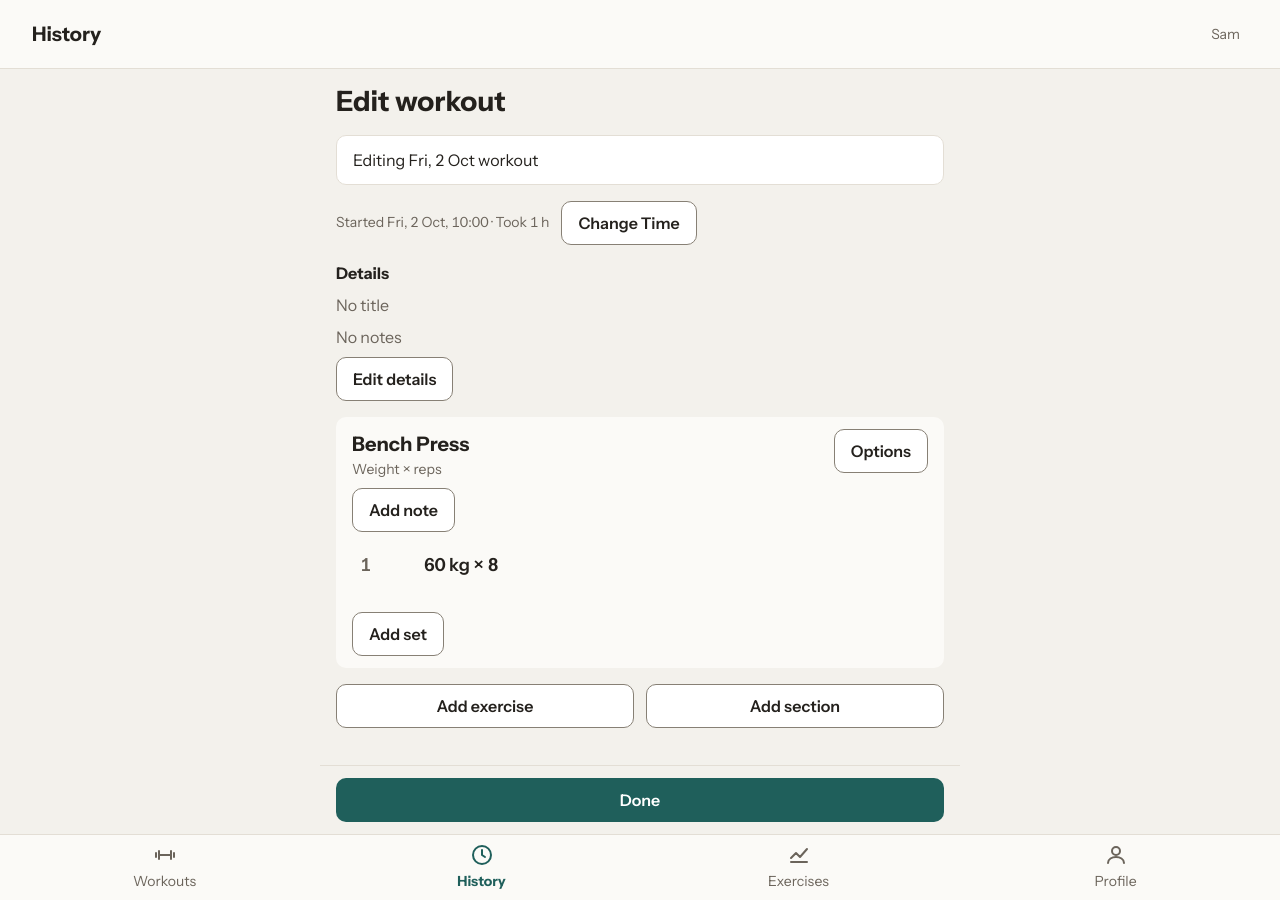
Test: 18.0 AC53 / AC54 — the Details sheet › 500: the sheet stays open with the typed text and the copy; never the server's message
Expected: the heading "Edit workout" is shown, [336,84,506,118]
Click the button "Edit details": (395, 379) [336,357,453,401]
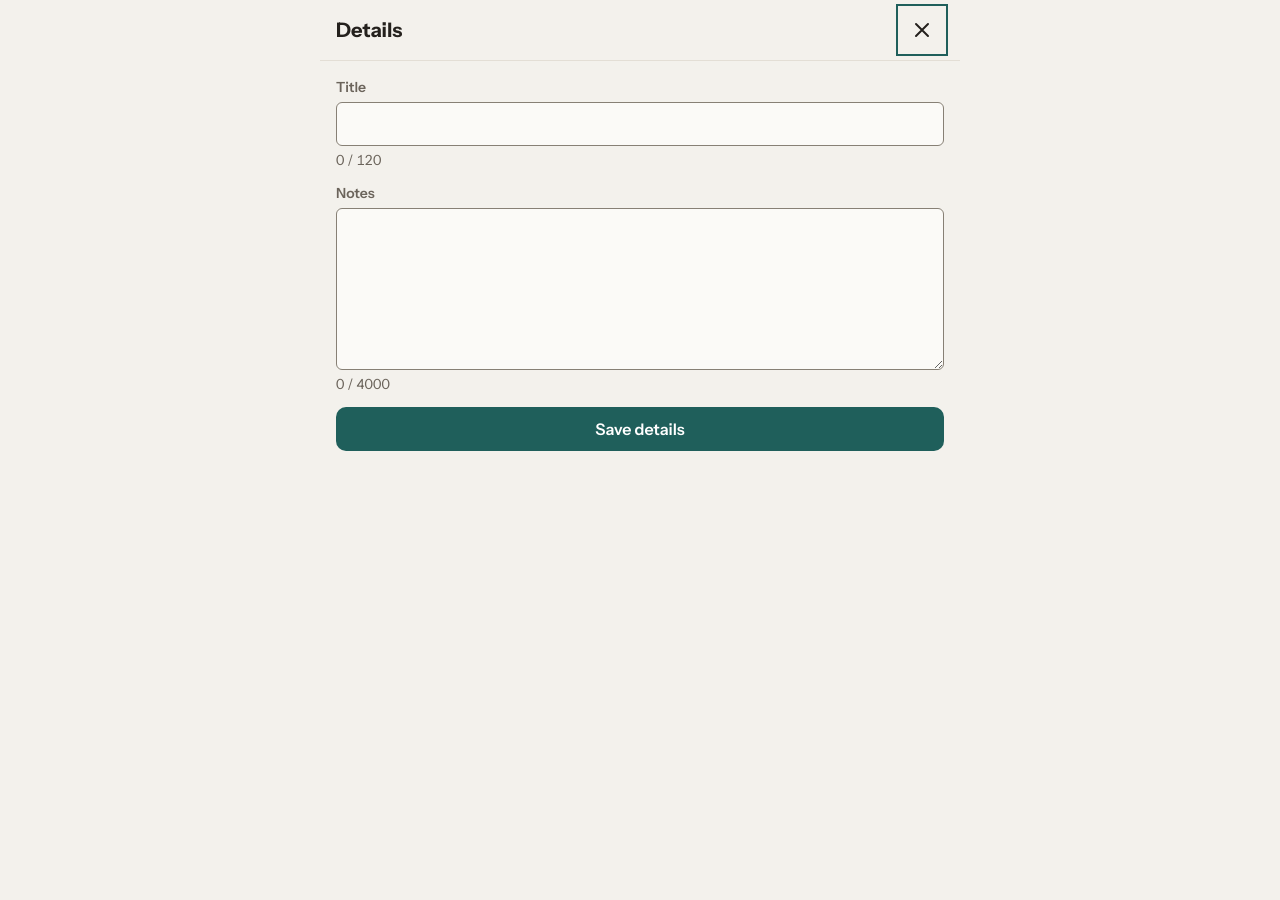
In the field labelled "Title": (640, 124) [336,102,944,146], type "Deload"
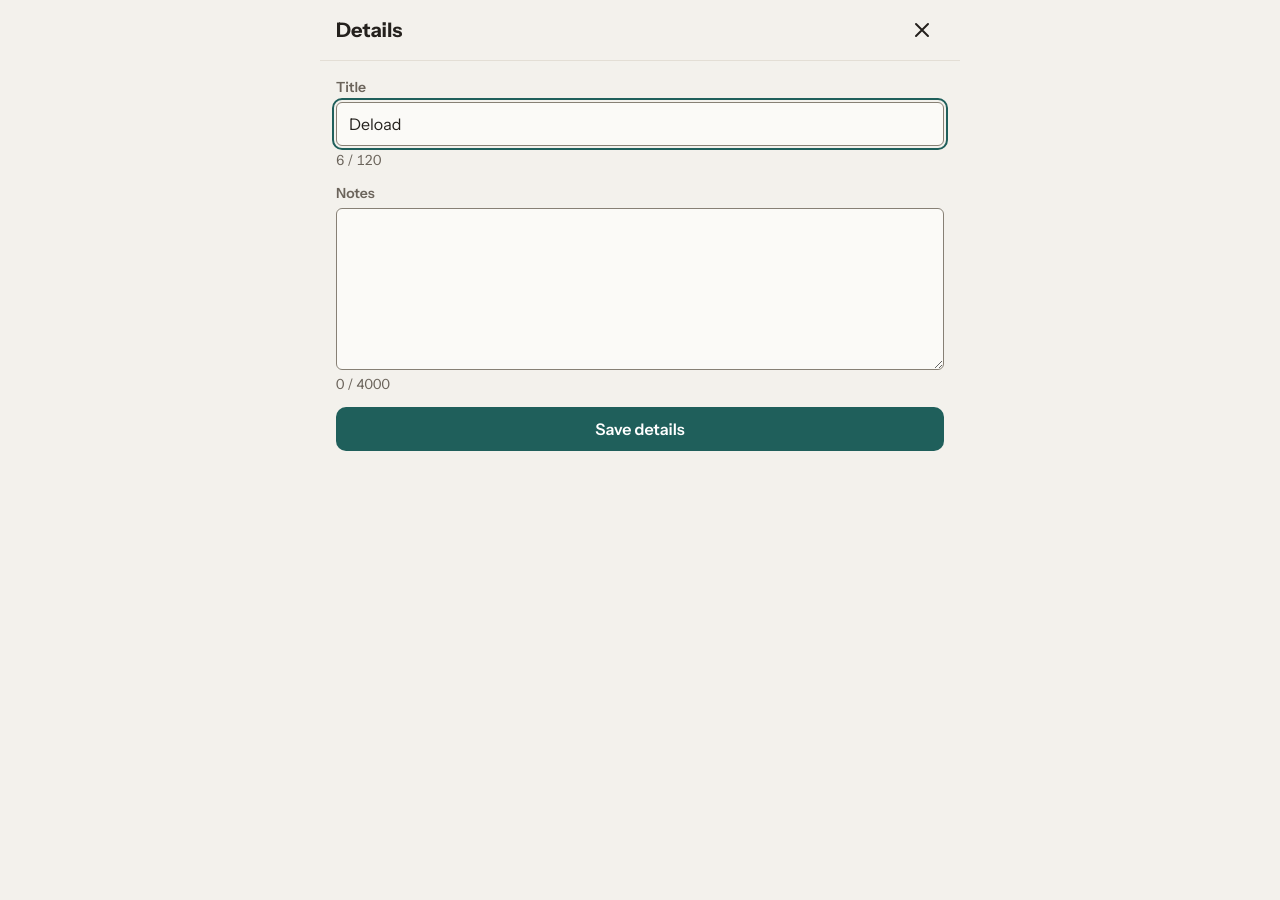
Click the button "Save details": (640, 429) [336,407,944,451]
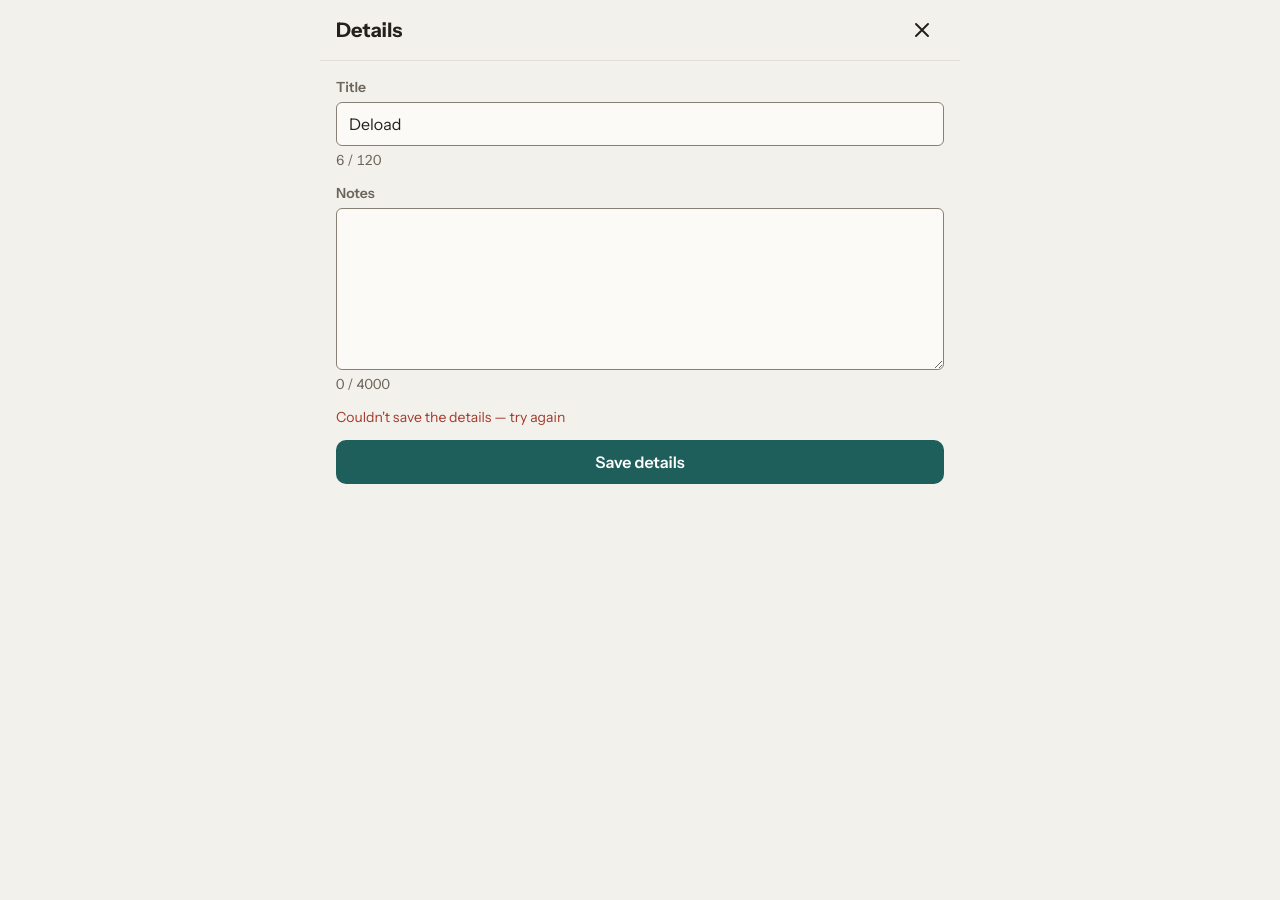
Now the text "Couldn't save the details — try again" is shown, box [336,408,565,426]
